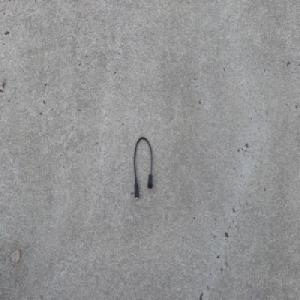Wire: (133, 136, 153, 200)
